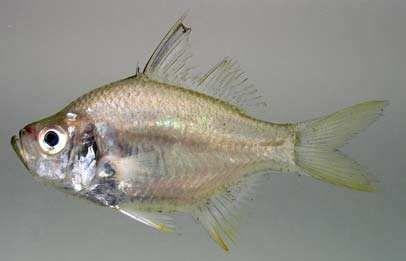Glass Perchlet: (12, 9, 388, 251)
